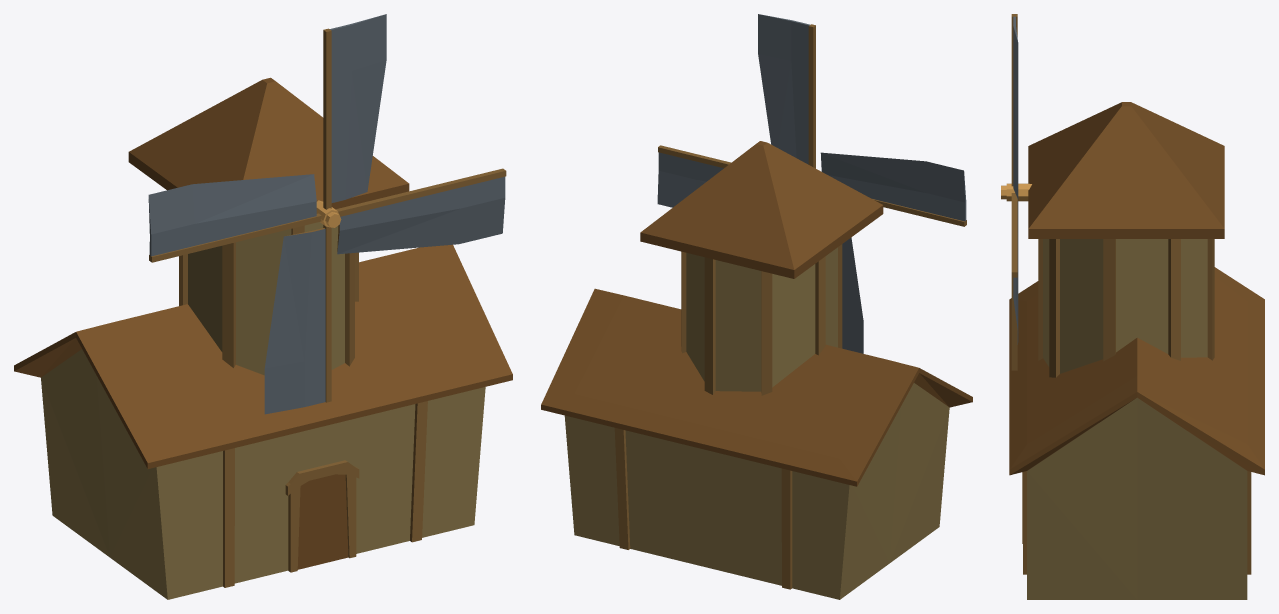
File: farm.dae
3 renders of one model, left to right at view 1: azimuth 30°, elevation 25°; view 2: azimuth 150°, elevation 25°; view 3: azimuth 270°, elevation 25°, orthographic. The views are drawn at different scales.
Parts seen in each view (by area): view 1: House, Blades, Roof, HouseCylinder, Door; view 2: House, Roof, Blades, HouseCylinder; view 3: House, Roof, HouseCylinder, Blades, BladesCylinder.
Part boxes in pixels (bbox=[...]): House: bbox=[14, 244, 512, 599]; Blades: bbox=[148, 14, 506, 414]; Roof: bbox=[128, 77, 409, 209]; HouseCylinder: bbox=[179, 222, 358, 375]; Door: bbox=[285, 460, 359, 572]; House: bbox=[541, 288, 972, 599]; Roof: bbox=[640, 141, 883, 278]; Blades: bbox=[657, 14, 966, 353]; HouseCylinder: bbox=[681, 244, 842, 395]; House: bbox=[1009, 267, 1264, 599]; Roof: bbox=[1028, 102, 1224, 238]; HouseCylinder: bbox=[1038, 239, 1214, 377]; Blades: bbox=[1011, 14, 1018, 370]; BladesCylinder: bbox=[1001, 183, 1031, 201].
Size of the model in its own units: 16.47 by 10.51 by 22.56.
